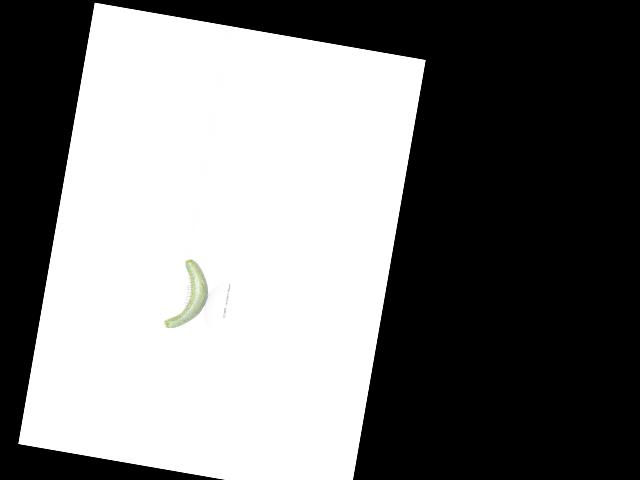cucumber: (163, 257, 213, 333)
